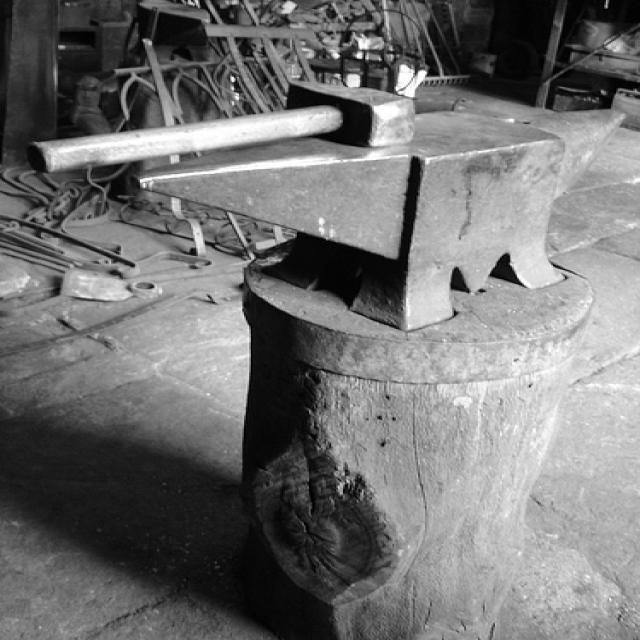hammer: (7, 72, 430, 186)
